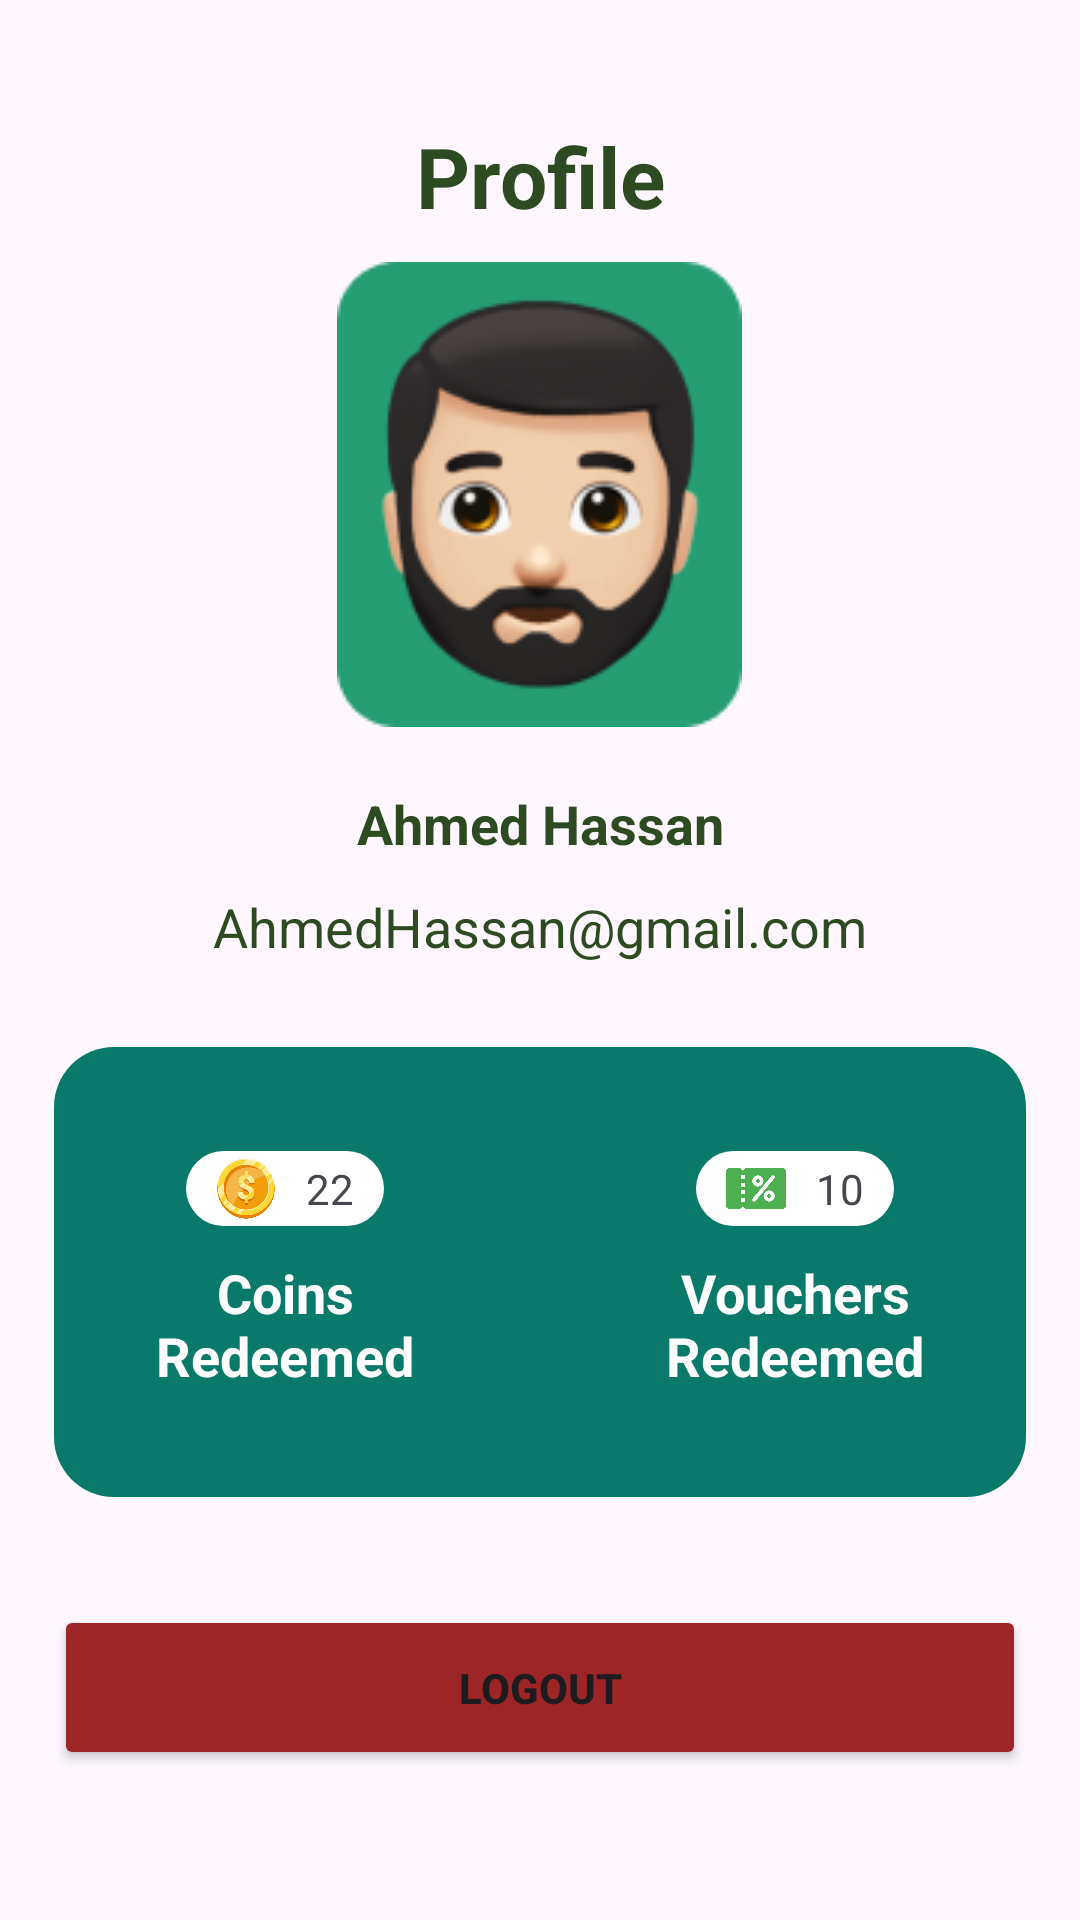

Named icons in this screenshot (1080×1920) and their bounding boxes, detection(x1, y1, x2, y2):
dollar: detection(217, 1159, 275, 1219)
